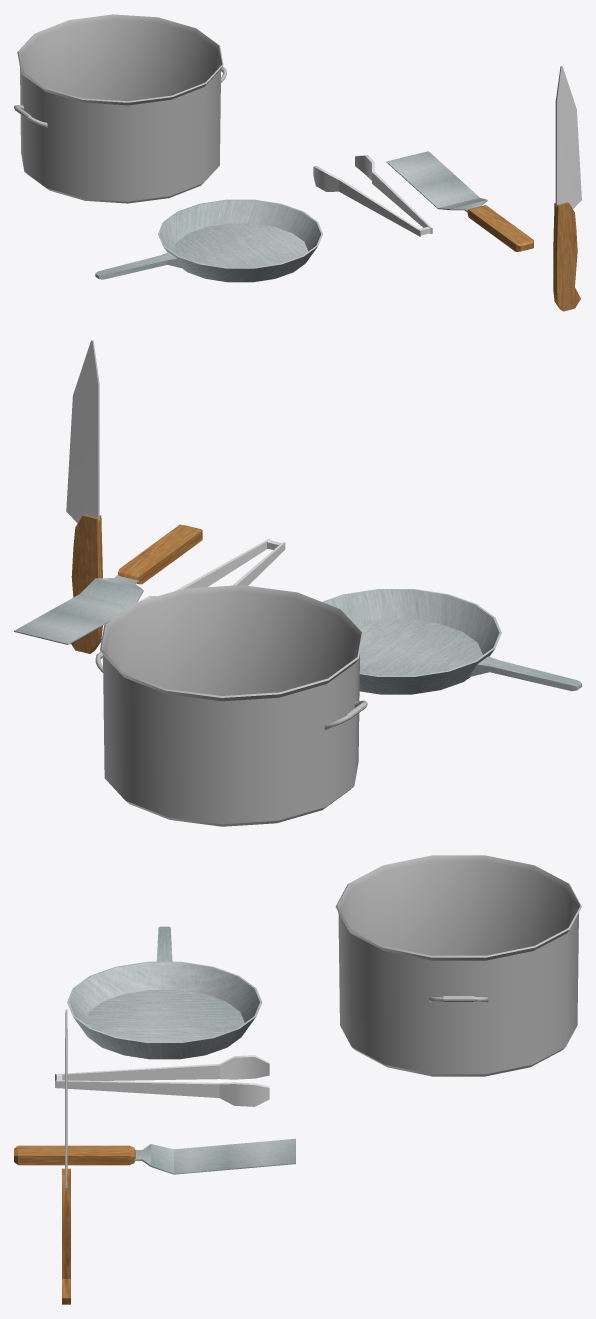
The model's file is Knife_Pan.gltf.
3 views of the same model, one above another, from view 1: azimuth 30°, elevation 25°; view 2: azimuth 150°, elevation 25°; view 3: azimuth 270°, elevation 25° (orthographic). The views are drawn at different scales.
Visible parts, largest first — view 1: Soup_pot, Frying_pan, Knife_utility, Spatula, Tongs; view 2: Soup_pot, Frying_pan, Knife_utility, Spatula, Tongs; view 3: Soup_pot, Frying_pan, Spatula, Tongs, Knife_utility.
Boxes of the visible parts, x1,y1,x2,y2 form: Soup_pot: (14,14,226,203); Frying_pan: (95,199,322,282); Knife_utility: (553,66,581,311); Spatula: (386,151,533,251); Tongs: (313,155,432,236); Soup_pot: (95,585,367,826); Frying_pan: (322,589,581,694); Knife_utility: (66,340,102,653); Spatula: (14,524,202,644); Tongs: (140,538,285,601); Soup_pot: (335,855,581,1076); Frying_pan: (67,926,262,1059); Spatula: (14,1138,295,1174); Tongs: (55,1055,269,1106); Knife_utility: (62,1009,70,1304).
Bounding box in the file's own units: 1.36 × 0.7161 × 1.28.
4 materials, 2 textured.
